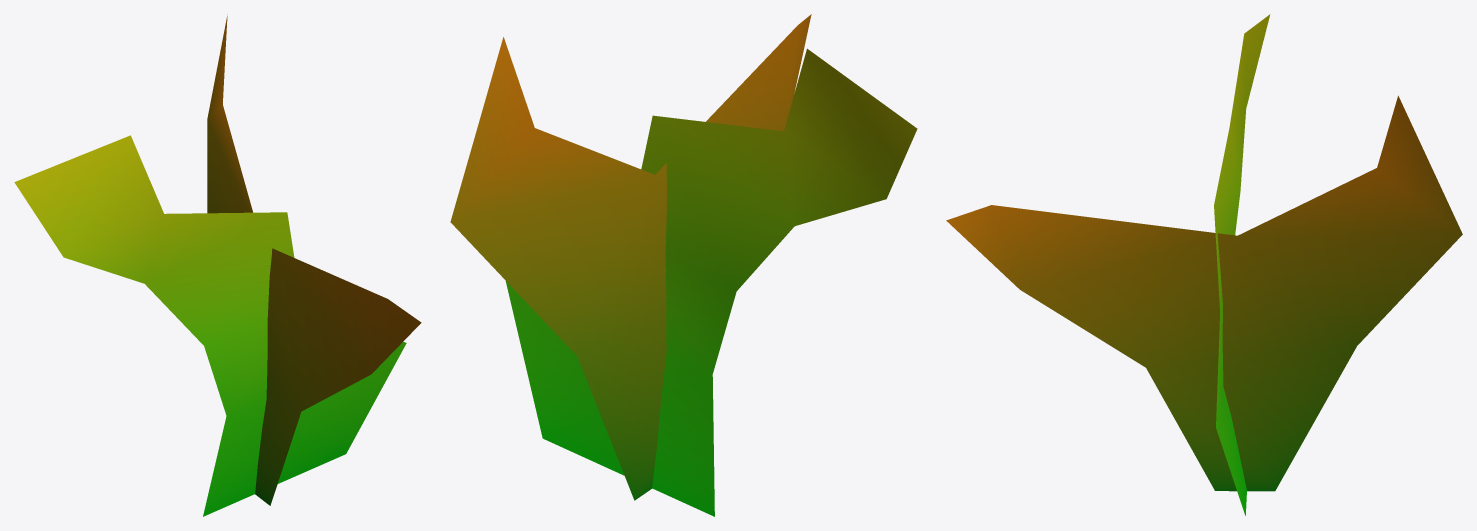
File: Var11Hi26.fbx
3 renders of one model, left to right at view 1: azimuth 30°, elevation 25°; view 2: azimuth 150°, elevation 25°; view 3: azimuth 270°, elevation 25°, orthographic. The views are drawn at different scales.
Visible parts, largest first — view 1: bend1; view 2: bend1; view 3: bend1.
Boxes of the visible parts, x1,y1,x2,y2 form: bend1: (14, 14, 421, 516); bend1: (450, 14, 917, 516); bend1: (946, 14, 1462, 515).
Bounding box in the file's own units: 1.35 × 1.49 × 1.63.
